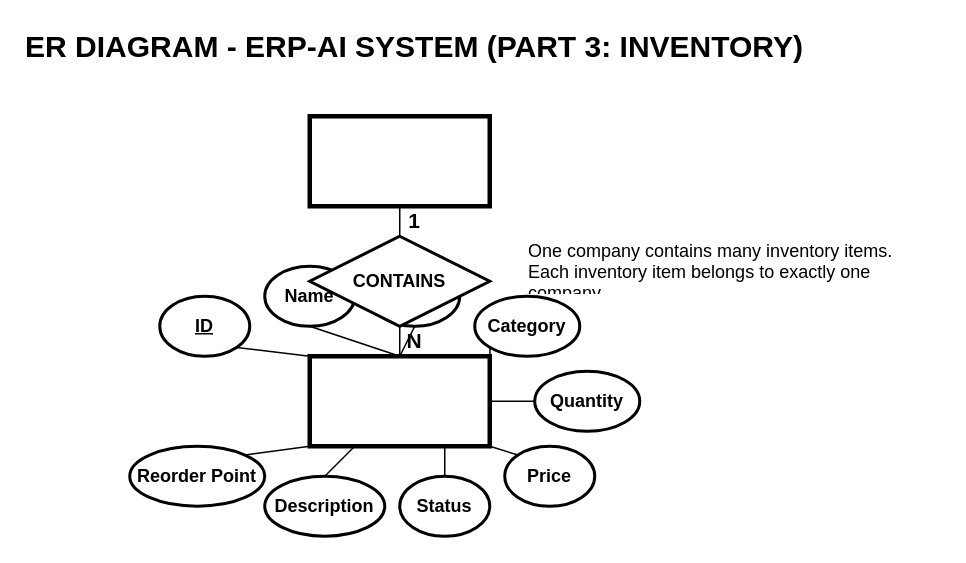
This 966x563 diagram has some shape labels left out. Each missing label, with the centre of its shape:
"COMPANY" belongs at point 399,160.
"INVENTORY" belongs at point 399,400.
